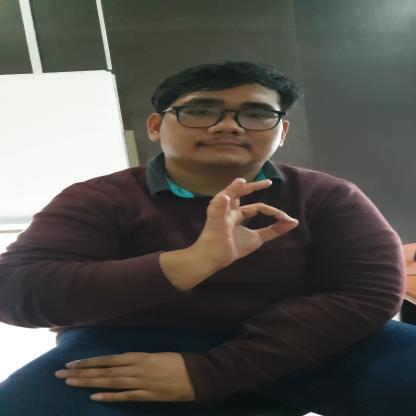O: (196, 178, 302, 264)
